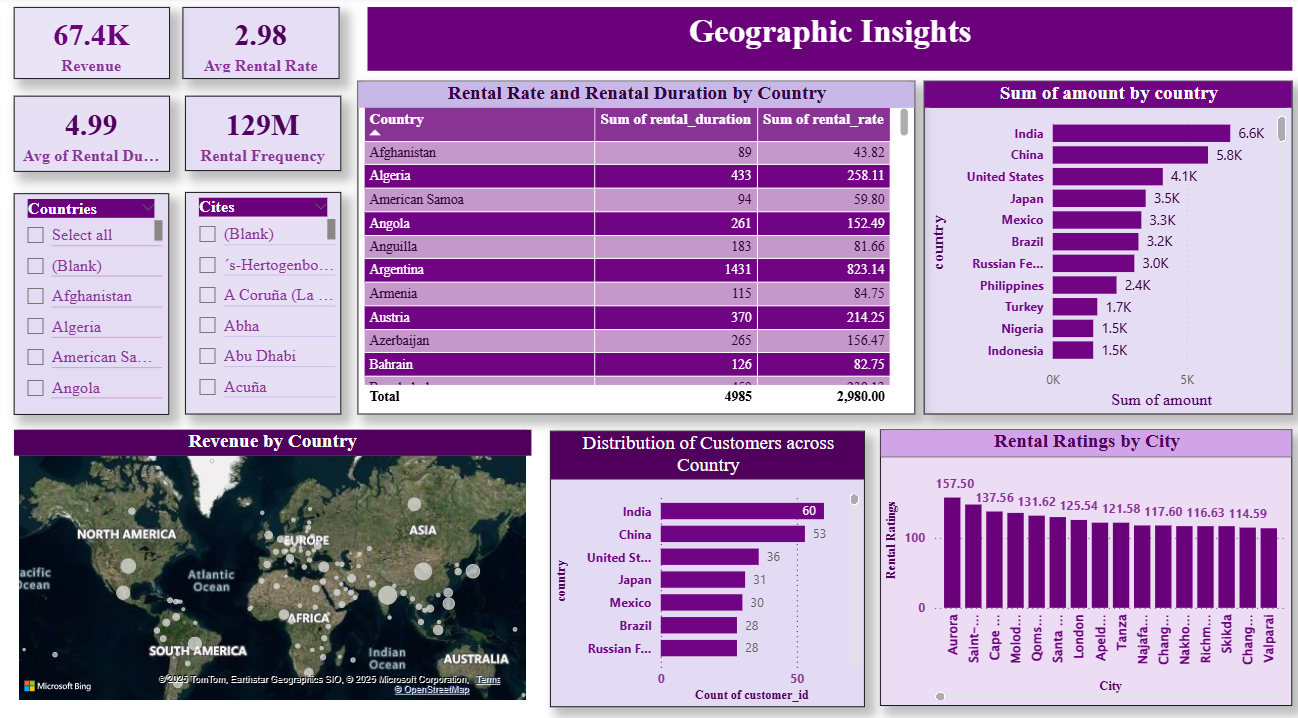

The dashboard page shown, as its layout file describes it:
{"tool":"powerbi","page":{"name":"Geographic Insights","canvas":[1280,720],"ordinal":1},"visuals":[{"type":"card","fields":{"Values":["payment.Revenue"]},"box":[17.9,10.3,152.6,70.5],"z":0},{"type":"card","fields":{"Values":["Avg(film.rental_rate)"]},"box":[183.3,10.3,153.8,70.5],"z":1000},{"type":"card","fields":{"Values":["Avg(film.rental_duration)"]},"box":[17.9,96.2,152.6,74.4],"z":2000},{"type":"card","fields":{"Values":["Sum(payment.rental_id)"]},"box":[185.9,96.6,152.9,73.4],"z":3000},{"type":"slicer","fields":{"Values":["city.city"]},"box":[185.9,190.8,152.9,217.7],"z":4000},{"type":"slicer","fields":{"Values":["country.country"]},"box":[18.3,192,151.6,216.4],"z":5000},{"type":"tableEx","title":"Rental Rate and Renatal Duration by Country","fields":{"Values":["country.country","Sum(film.rental_duration)","Sum(film.rental_rate)"]},"box":[354.6,81.9,545.4,326.5],"z":6000},{"type":"clusteredBarChart","fields":{"Y":["Sum(payment.amount)"],"Category":["country.country"]},"box":[908.6,81.9,360.7,326.5],"z":7000},{"type":"clusteredBarChart","title":"Distribution of Customers across Country","fields":{"Category":["country.country"],"Y":["CountNonNull(customer.customer_id)"]},"box":[542.9,424.3,308.2,270.2],"z":8000},{"type":"columnChart","fields":{"Y":["Sum(film.rental_rate)"],"Category":["city.city"]},"box":[865.8,423.1,403.5,270.2],"z":9000},{"type":"map","title":"Revenue by Country","fields":{"Category":["country.country"],"Size":["payment.Revenue"]},"box":[18.3,423.1,506.3,270.2],"z":10000},{"type":"textbox","box":[364.4,9.8,904.9,62.4],"z":11000}]}

Visuals, with their boxes in screenshot pixels (x1, y1, x2, y2), scaled from the page's 1280x720 canvas onto the 1298x718 screenshot:
card - payment.Revenue: box(18, 10, 173, 81)
card - Avg(film.rental_rate): box(186, 10, 342, 81)
card - Avg(film.rental_duration): box(18, 96, 173, 170)
card - Sum(payment.rental_id): box(189, 96, 344, 170)
slicer - city.city: box(189, 190, 344, 407)
slicer - country.country: box(19, 191, 172, 407)
"Rental Rate and Renatal Duration by Country" tableEx: box(360, 82, 913, 407)
clusteredBarChart - Sum(payment.amount) x country.country: box(921, 82, 1287, 407)
"Distribution of Customers across Country" clusteredBarChart: box(551, 423, 863, 693)
columnChart - Sum(film.rental_rate) x city.city: box(878, 422, 1287, 691)
"Revenue by Country" map: box(19, 422, 532, 691)
textbox: box(370, 10, 1287, 72)
